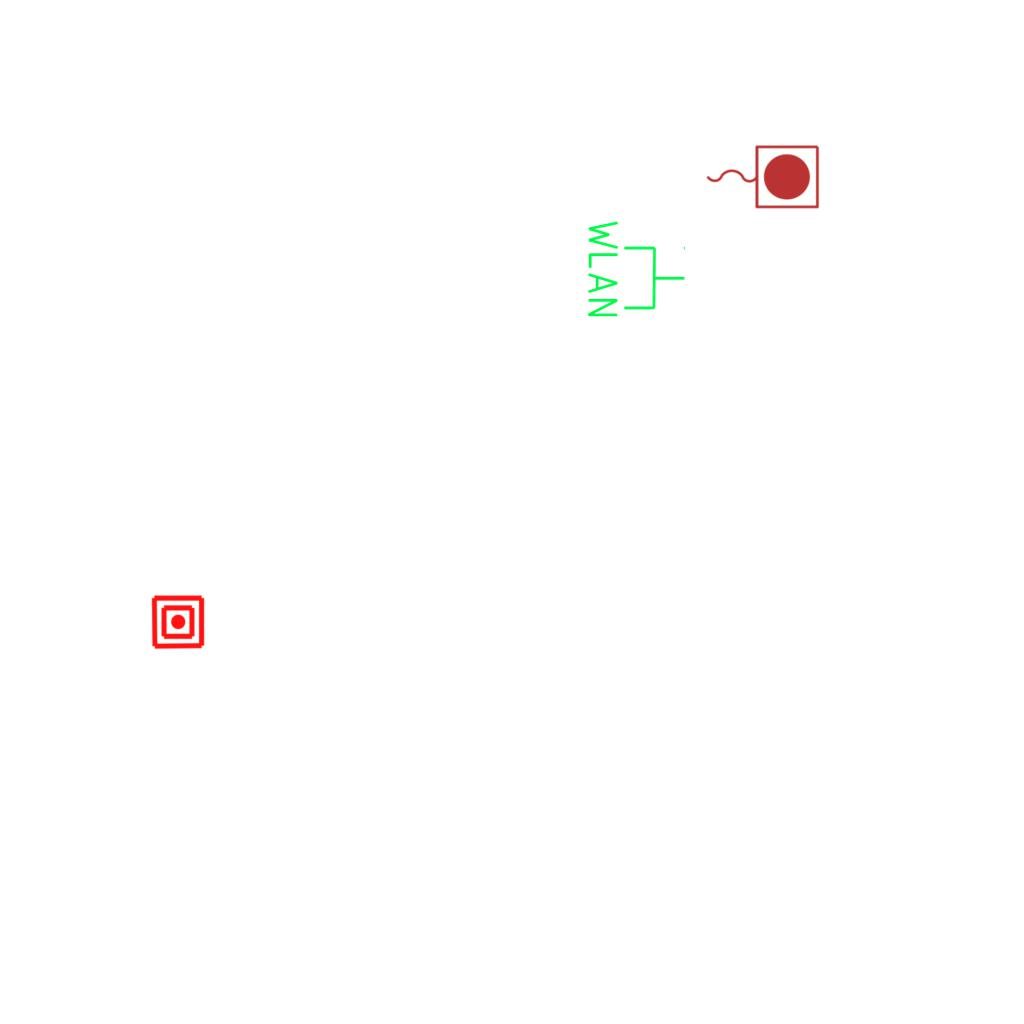NAM-Nichtautomatischer_Melder: (150, 594, 206, 650)
WLAN: (584, 216, 688, 321)
Zugtaster: (701, 140, 823, 212)
